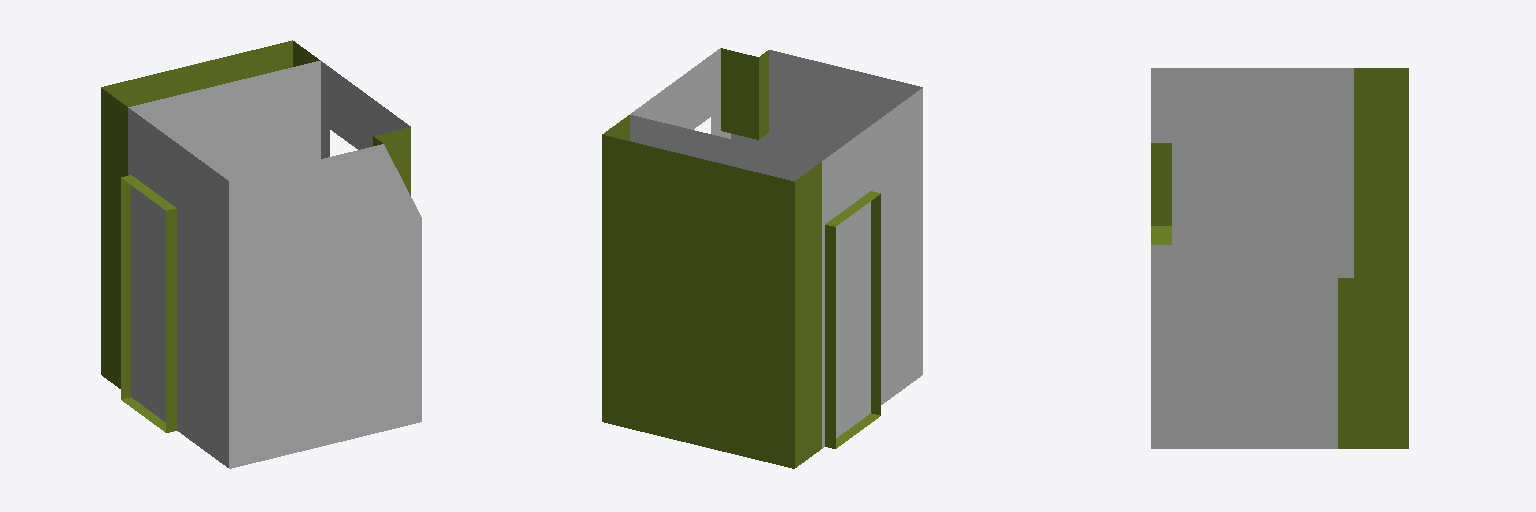
Rendered from utility_room_model.obj.
3 views of the same model, side by side, from view 1: azimuth 30°, elevation 25°; view 2: azimuth 150°, elevation 25°; view 3: azimuth 270°, elevation 25° (orthographic).
Visible parts, largest first — view 1: utility_room; view 2: utility_room; view 3: utility_room.
Boxes of the visible parts, box(x1,y1,x2,y2) form: utility_room: box(101, 40, 421, 468); utility_room: box(602, 48, 922, 468); utility_room: box(1151, 68, 1408, 448).
Size of the model in its own units: 0.0243 by 0.0329 by 0.0267.